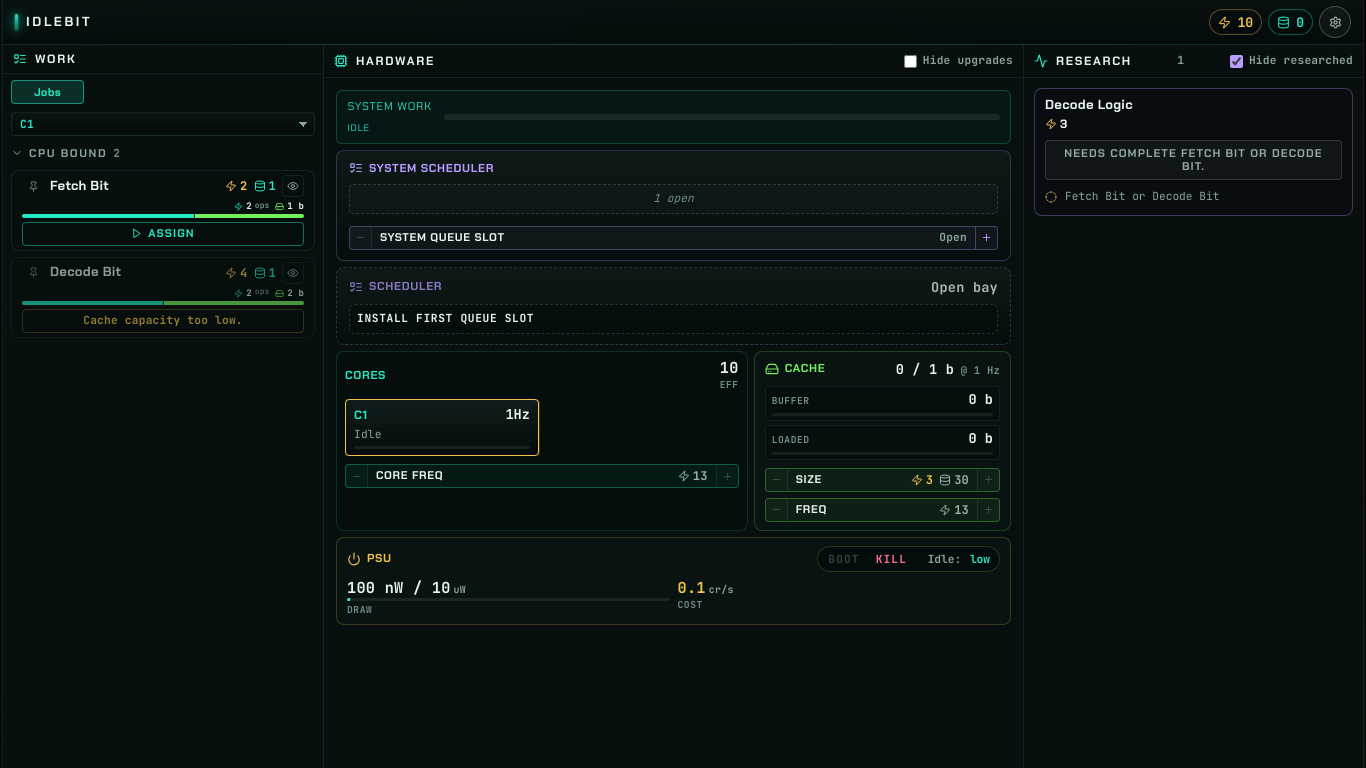
Test: SystemWorkbench hardware upgrade toggle › toggles the resource graph on desktop resource taps
The width and height of the screenshot is (1366, 768).
Click the button with class "data" showing "0" at (1291,22), box x1=1268 y1=9 x2=1313 y2=35
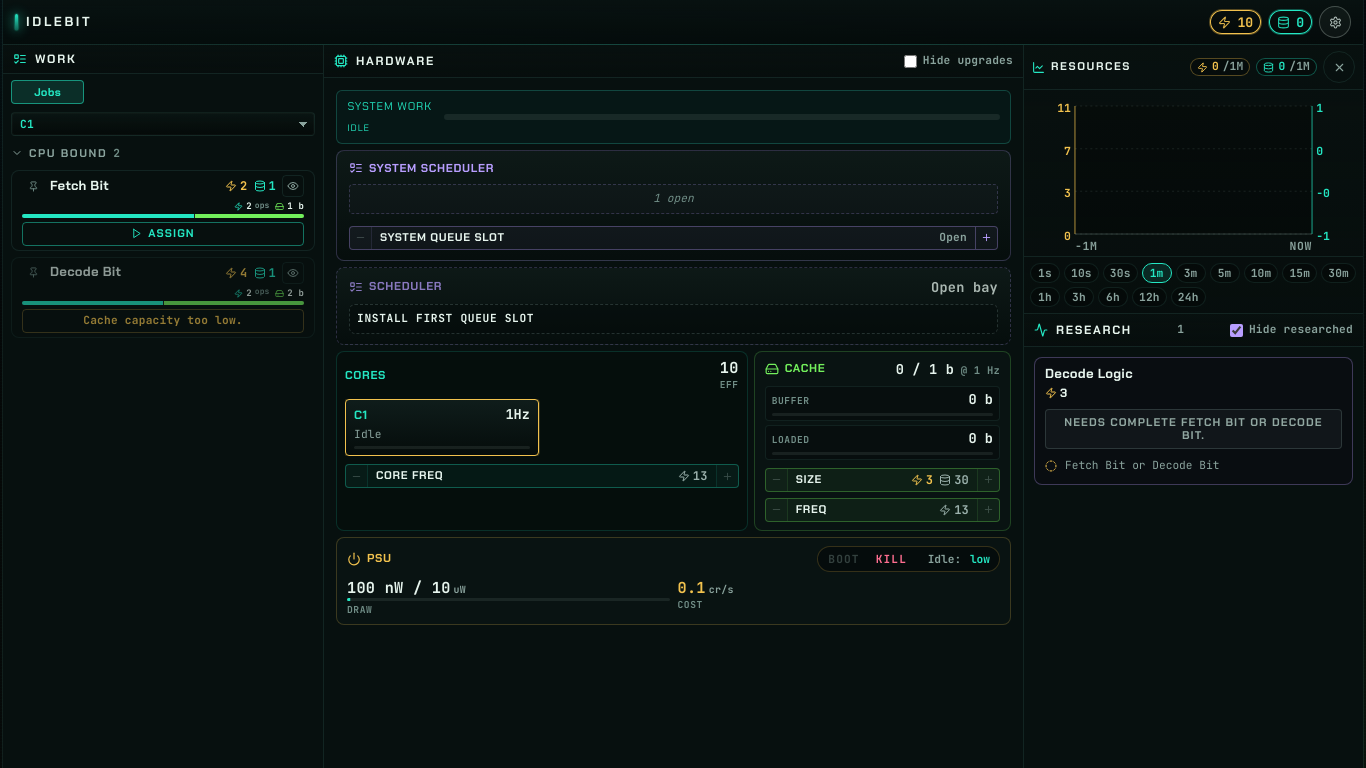
Expected: the element with class "resource-graph-panel" is shown, x1=1024 y1=45 x2=1363 y2=314
Click the button with class "data" showing "0" at (1291,22), box x1=1268 y1=9 x2=1313 y2=35
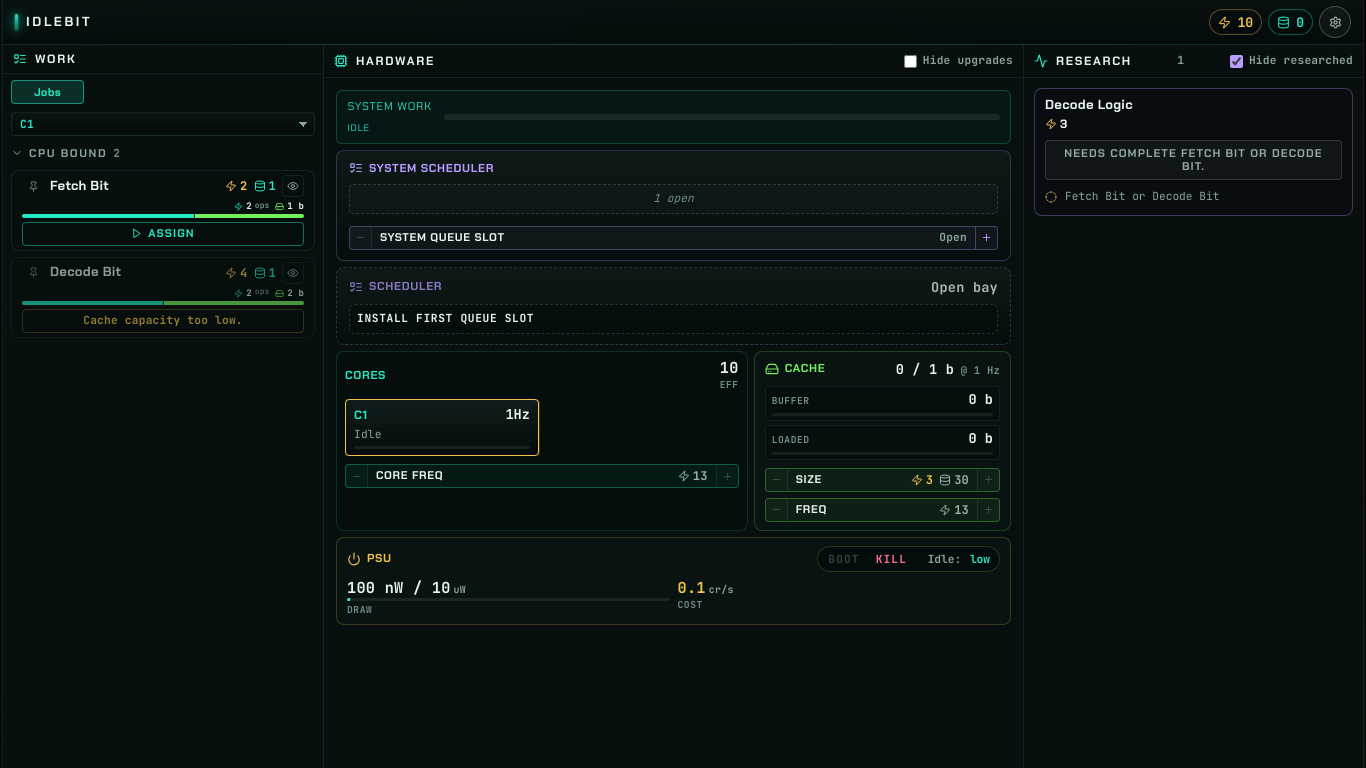
Expected: the element with class "resource-graph-panel" is gone
